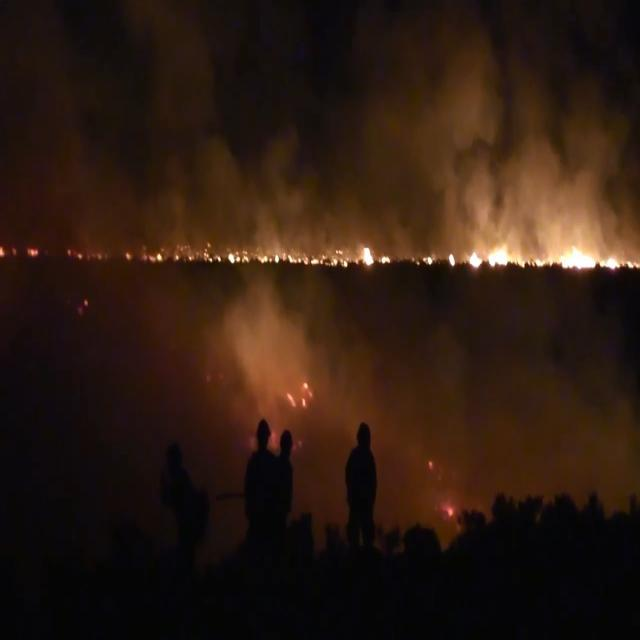Fire: (245, 357, 318, 452)
